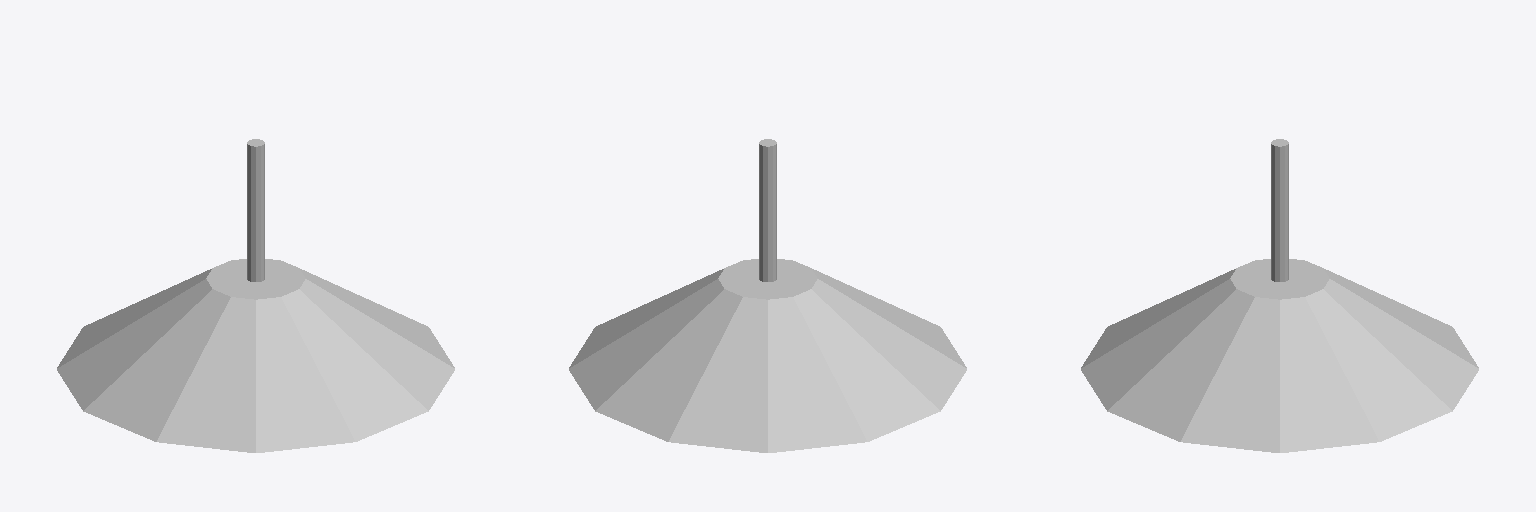
The model's file is cone_light.obj.
The picture shows the model from 3 angles: view 1: azimuth 30°, elevation 25°; view 2: azimuth 150°, elevation 25°; view 3: azimuth 270°, elevation 25°; orthographic projection.
Visible parts, largest first — view 1: spotlight; view 2: spotlight; view 3: spotlight.
Part boxes in pixels (left/top/right/bottom): spotlight: left=57, top=139, right=454, bottom=452; spotlight: left=569, top=139, right=966, bottom=452; spotlight: left=1081, top=139, right=1478, bottom=452.
Size of the model in its own units: 1.6 by 1 by 1.6.